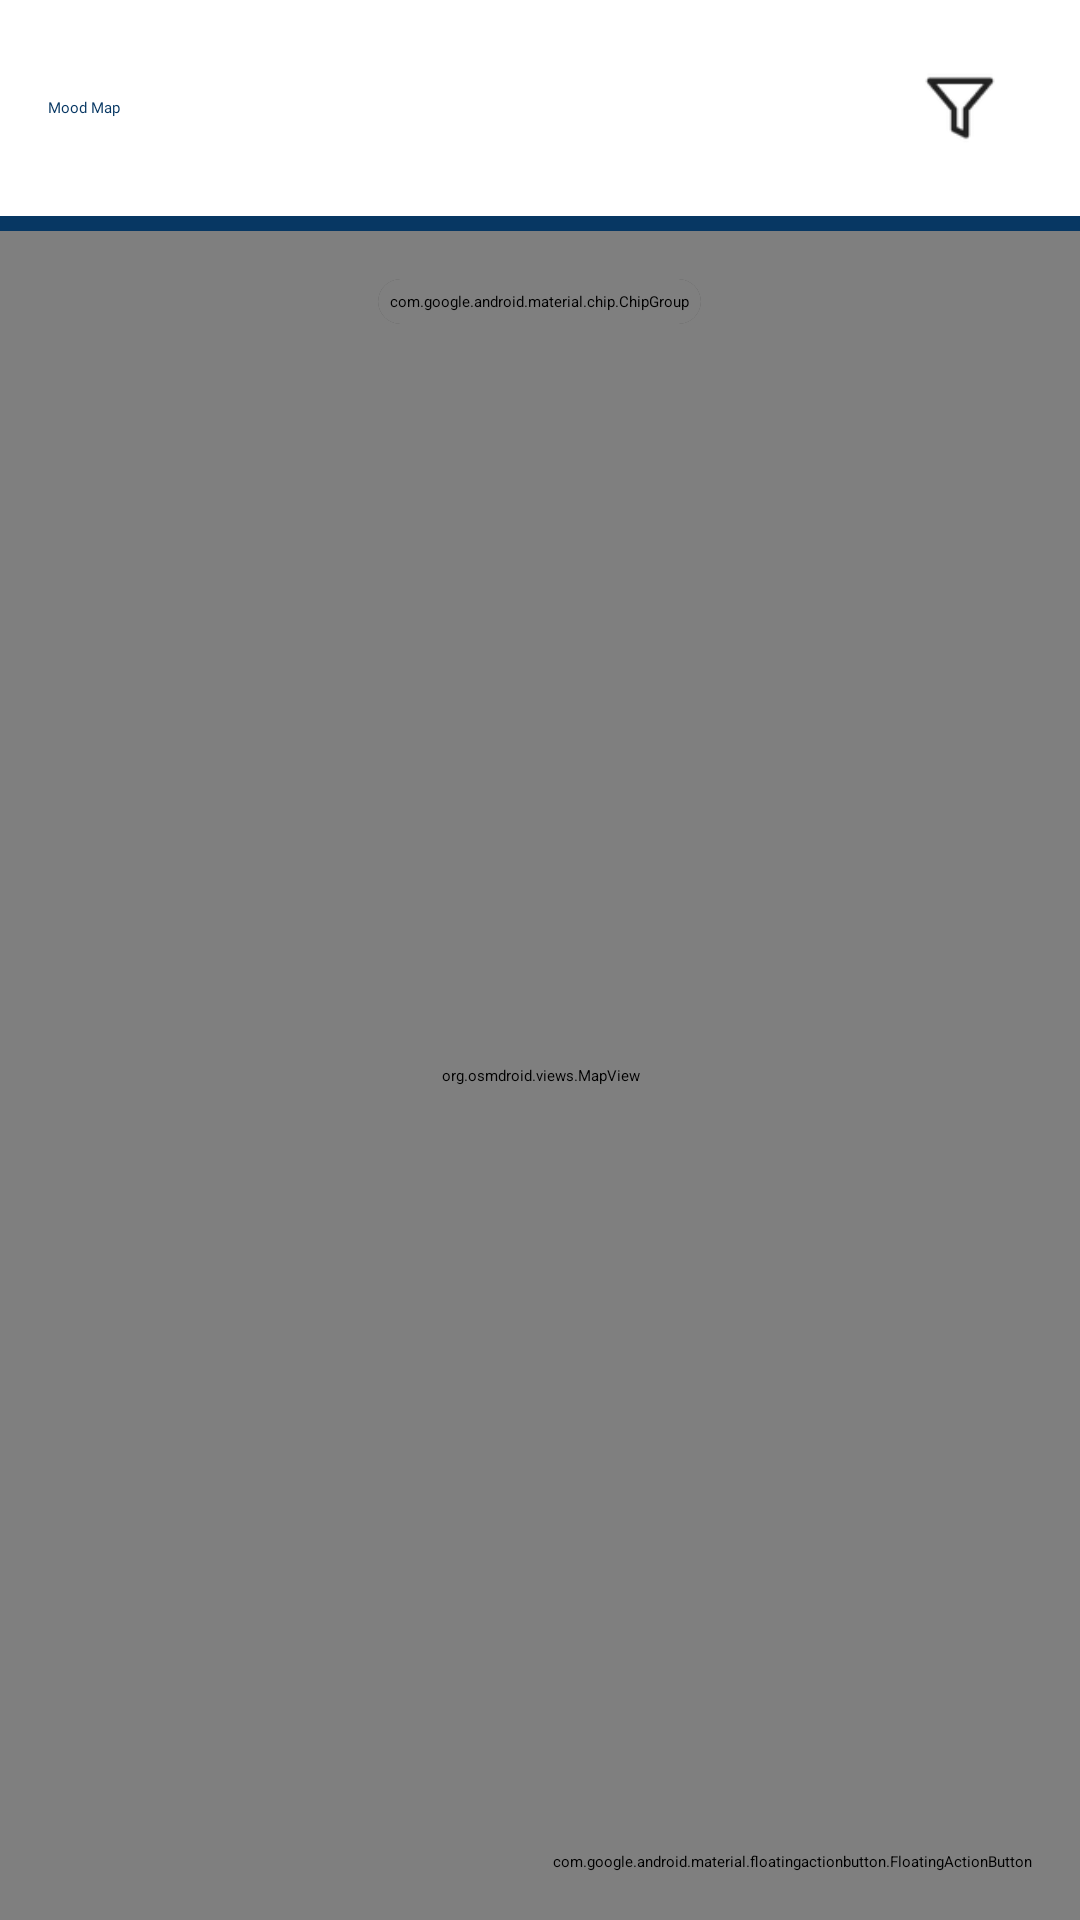

Icon bounding boxes for this 1080 x 1920 phone screenshot, format (x1, y1, x2, y2):
filter: (926, 77, 994, 139)
